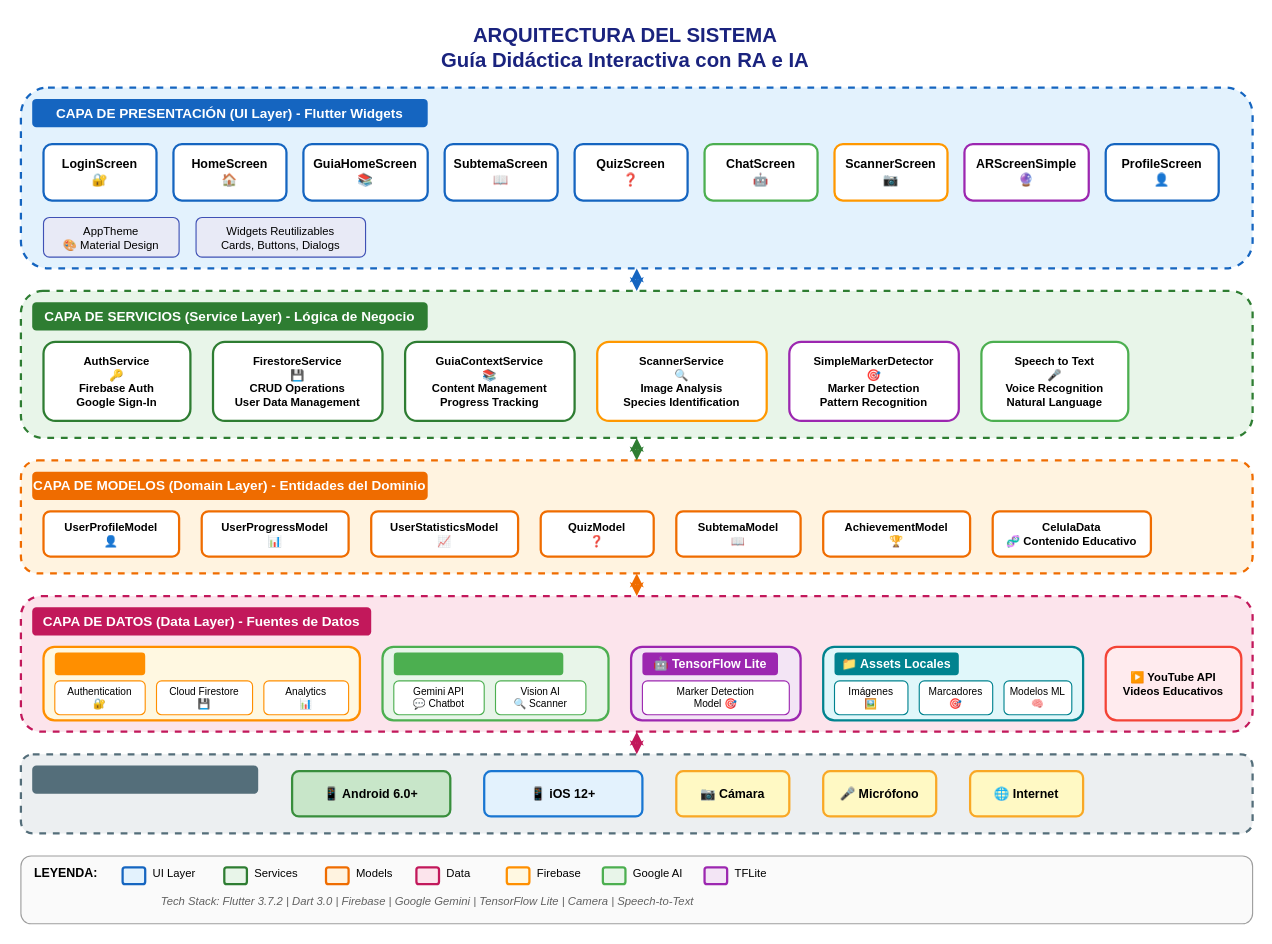
Some shapes in this 1272 by 944 pixel diagram are drawn without their labels. The box of each missing label's shape, as (x1, y1, x2, y2) in pixels:
DISPOSITIVOS DE USUARIO: (32, 765, 258, 793)
🔥 Firebase: (54, 652, 145, 675)
🧠 Google Generative AI: (393, 652, 563, 675)
